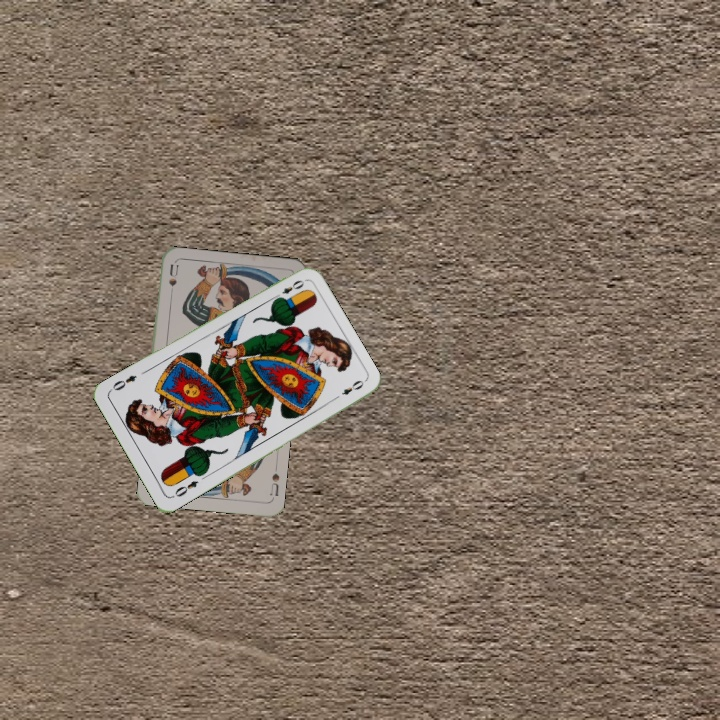EO: (270, 276, 307, 302), (170, 476, 201, 499)
SU: (266, 469, 282, 498), (165, 261, 181, 289)
